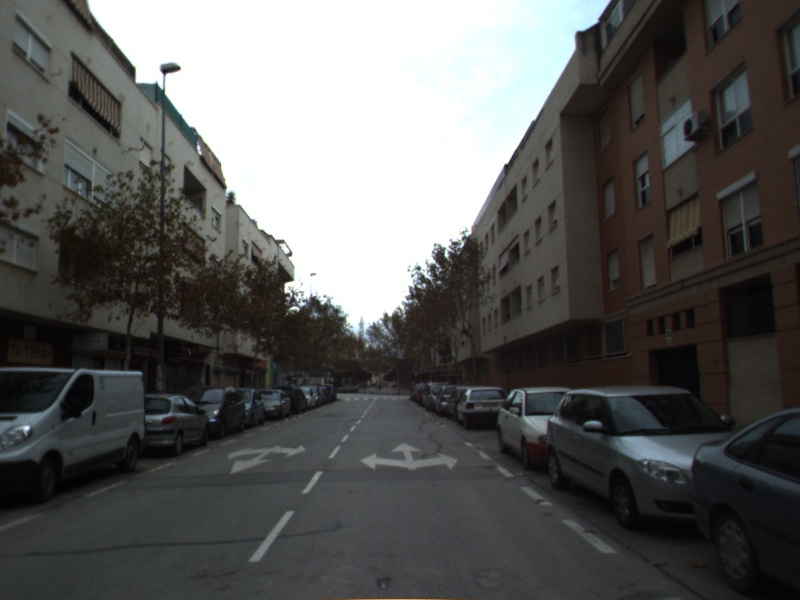STRAIGHT_LEFT_RIGHT: (358, 440, 461, 472)
